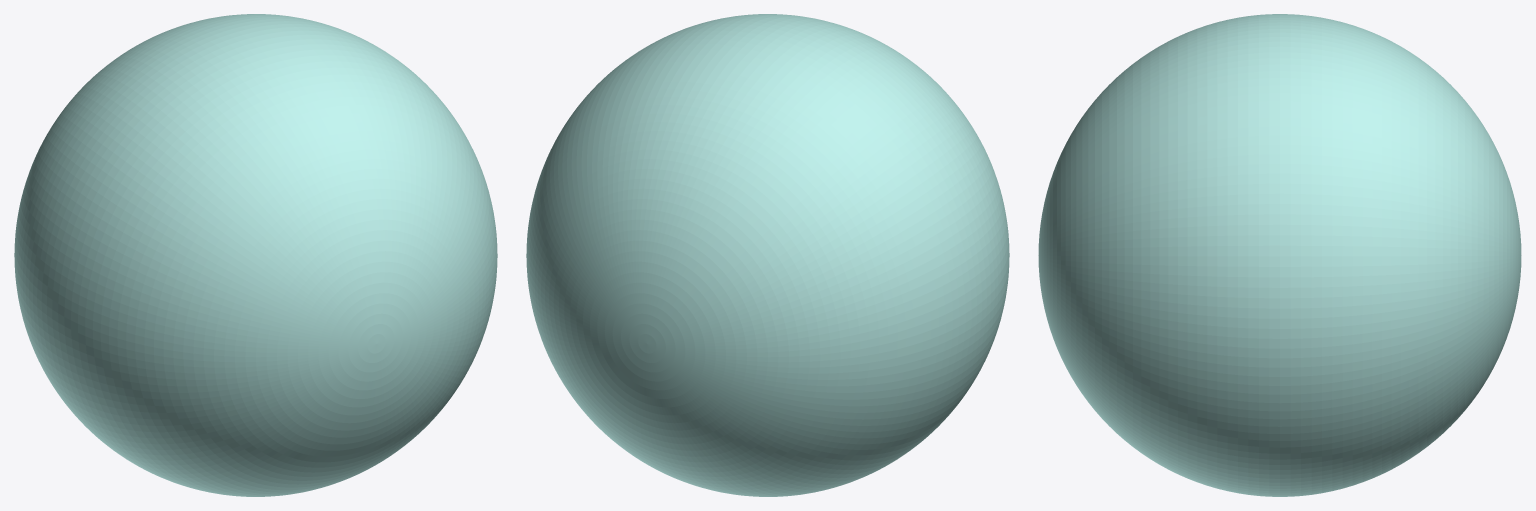
Rendered from EEZYbotARM_Mk2_robot_base_vis_9.dae.
The picture shows the model from 3 angles, left to right: view 1: azimuth 30°, elevation 25°; view 2: azimuth 150°, elevation 25°; view 3: azimuth 270°, elevation 25°; orthographic projection.
Visible parts, largest first — view 1: node; view 2: node; view 3: node.
Part boxes in pixels (left/top/right/bottom): node: left=14, top=14, right=497, bottom=496; node: left=526, top=14, right=1009, bottom=496; node: left=1038, top=14, right=1521, bottom=496.
Size of the model in its own units: 0.006 by 0.006 by 0.006.
